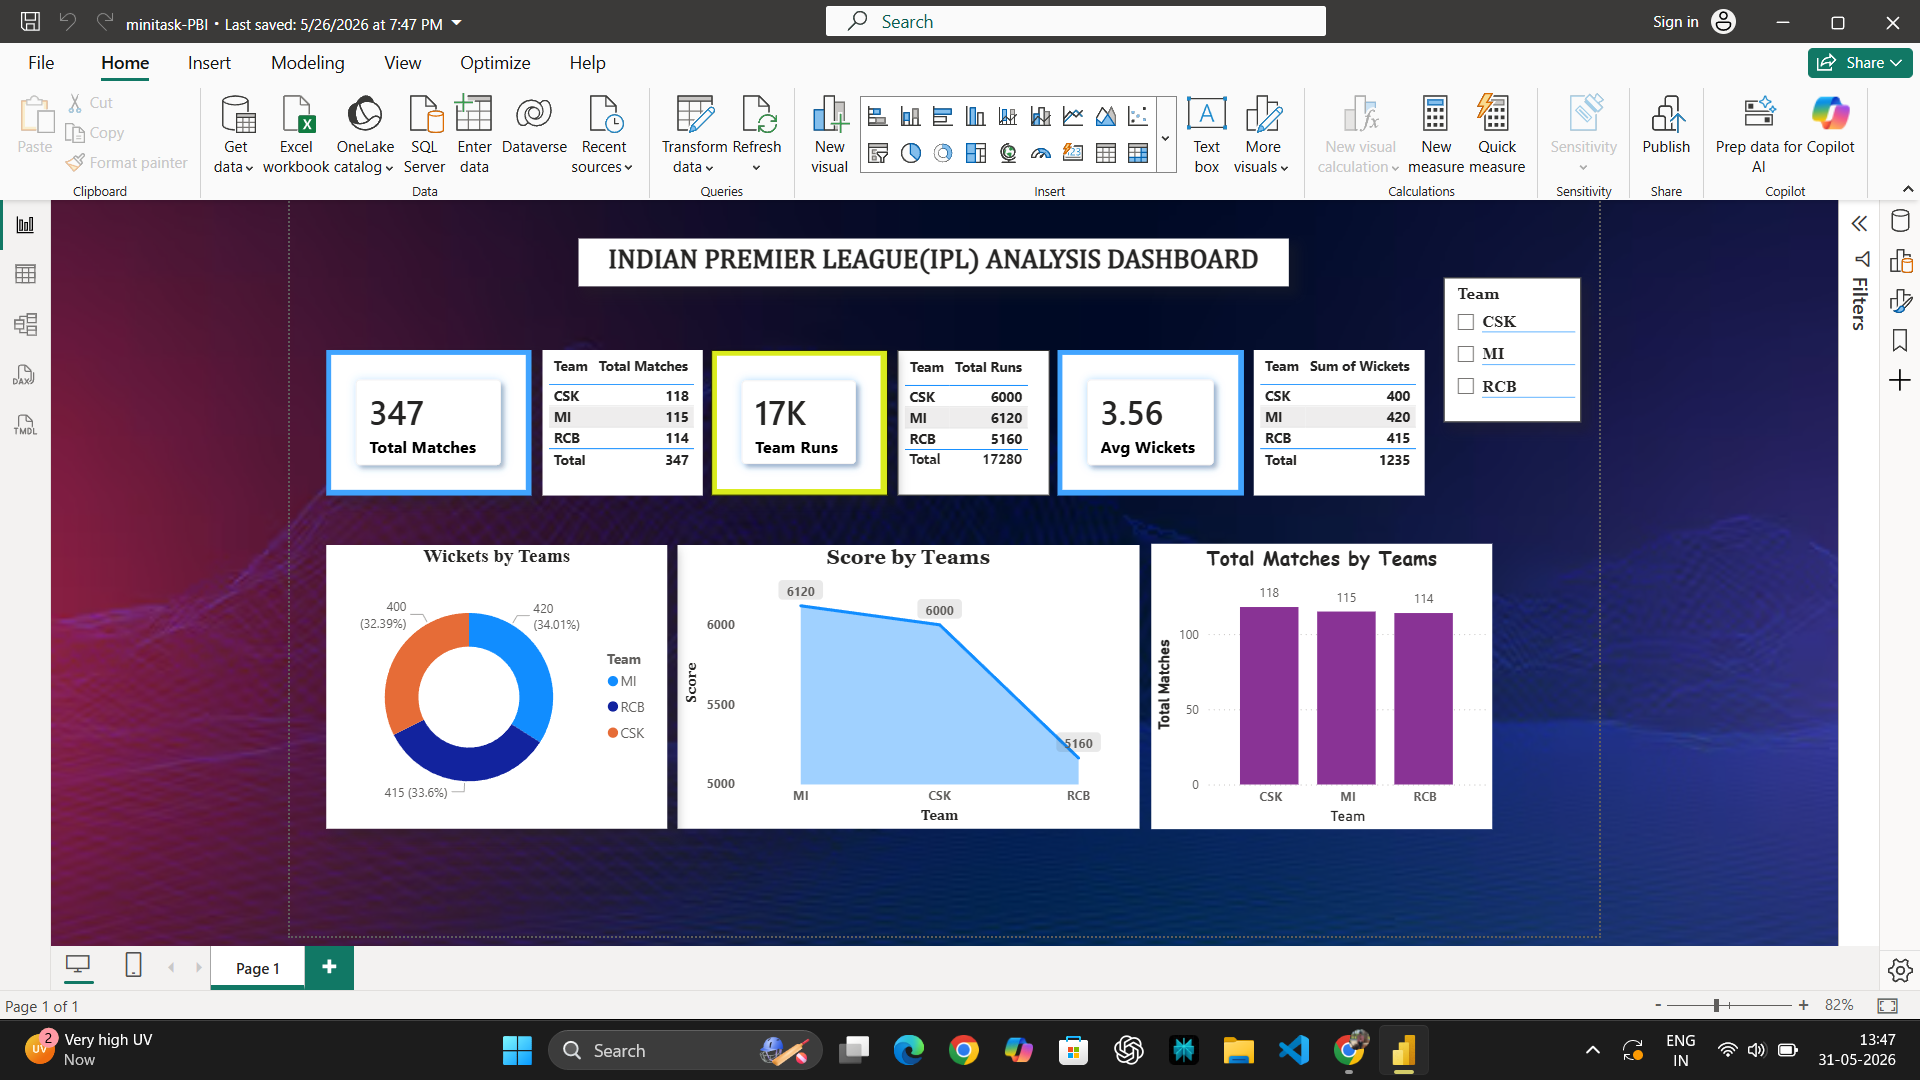

Layout of this report page (visuals, bound fields, positions):
{"tool":"powerbi","page":{"name":"Page 1","canvas":[1280,720],"ordinal":0},"visuals":[{"type":"cardVisual","fields":{"Data":["Sunday-Task-Dirty_IPL_Analytics_700 (2).Avg Wickets"]},"box":[750.7,146.5,182.6,142],"z":0},{"type":"cardVisual","fields":{"Data":["Sunday-Task-Dirty_IPL_Analytics_700 (2).Total Matches"]},"box":[34.9,146.5,200.6,142],"z":1000},{"type":"tableEx","fields":{"Values":["Sunday-Task-Dirty_IPL_Analytics_700 (2).Team","Sunday-Task-Dirty_IPL_Analytics_700 (2).Total Runs"]},"box":[594,146.5,148.8,142],"z":2000},{"type":"slicer","fields":{"Values":["Sunday-Task-Dirty_IPL_Analytics_700 (2).Team"]},"box":[1128.7,75.8,134.5,141.8],"z":3000},{"type":"stackedAreaChart","title":"Score by Teams","fields":{"Category":["Sunday-Task-Dirty_IPL_Analytics_700 (2).Team"],"Y":["Sunday-Task-Dirty_IPL_Analytics_700 (2).Total Runs"]},"box":[378.7,337,452,277.3],"z":4000},{"type":"donutChart","title":" Wickets by Teams","fields":{"Category":["Sunday-Task-Dirty_IPL_Analytics_700 (2).Team"],"Y":["Sum(Sunday-Task-Dirty_IPL_Analytics_700 (2).Wickets)"]},"box":[34.9,337,333.6,277.3],"z":5000},{"type":"textbox","box":[282.5,37.9,694.6,46.5],"z":6000},{"type":"cardVisual","fields":{"Data":["Sunday-Task-Dirty_IPL_Analytics_700 (2).Team Runs"]},"box":[412.5,146.5,172.4,142],"z":7000},{"type":"clusteredColumnChart","title":"Total Matches by Teams","fields":{"Category":["Sunday-Task-Dirty_IPL_Analytics_700 (2).Team"],"Y":["Sunday-Task-Dirty_IPL_Analytics_700 (2).Total Matches"]},"box":[842,335.9,333.6,279.5],"z":8000},{"type":"tableEx","fields":{"Values":["Sunday-Task-Dirty_IPL_Analytics_700 (2).Team","Sunday-Task-Dirty_IPL_Analytics_700 (2).Total Matches"]},"box":[246.8,146.5,156.7,142],"z":9000},{"type":"tableEx","fields":{"Values":["Sunday-Task-Dirty_IPL_Analytics_700 (2).Team","Sum(Sunday-Task-Dirty_IPL_Analytics_700 (2).Wickets)"]},"box":[943.4,146.5,166.8,142],"z":10000}]}

Visuals, with their boxes on the page's 1280x720 design canvas (x1, y1, x2, y2). These are canvas units, not pixel positions in the 1920x1080 screenshot, which may show the page scaled, cropped or inside an application window:
cardVisual - Sunday-Task-Dirty_IPL_Analytics_700 (2).Avg Wickets: (left=751, top=146, right=933, bottom=288)
cardVisual - Sunday-Task-Dirty_IPL_Analytics_700 (2).Total Matches: (left=35, top=146, right=236, bottom=288)
tableEx - Sunday-Task-Dirty_IPL_Analytics_700 (2).Team x Sunday-Task-Dirty_IPL_Analytics_700 (2).Total Runs: (left=594, top=146, right=743, bottom=288)
slicer - Sunday-Task-Dirty_IPL_Analytics_700 (2).Team: (left=1129, top=76, right=1263, bottom=218)
"Score by Teams" stackedAreaChart: (left=379, top=337, right=831, bottom=614)
" Wickets by Teams" donutChart: (left=35, top=337, right=368, bottom=614)
textbox: (left=282, top=38, right=977, bottom=84)
cardVisual - Sunday-Task-Dirty_IPL_Analytics_700 (2).Team Runs: (left=412, top=146, right=585, bottom=288)
"Total Matches by Teams" clusteredColumnChart: (left=842, top=336, right=1176, bottom=615)
tableEx - Sunday-Task-Dirty_IPL_Analytics_700 (2).Team x Sunday-Task-Dirty_IPL_Analytics_700 (2).Total Matches: (left=247, top=146, right=404, bottom=288)
tableEx - Sunday-Task-Dirty_IPL_Analytics_700 (2).Team x Sum(Sunday-Task-Dirty_IPL_Analytics_700 (2).Wickets): (left=943, top=146, right=1110, bottom=288)
